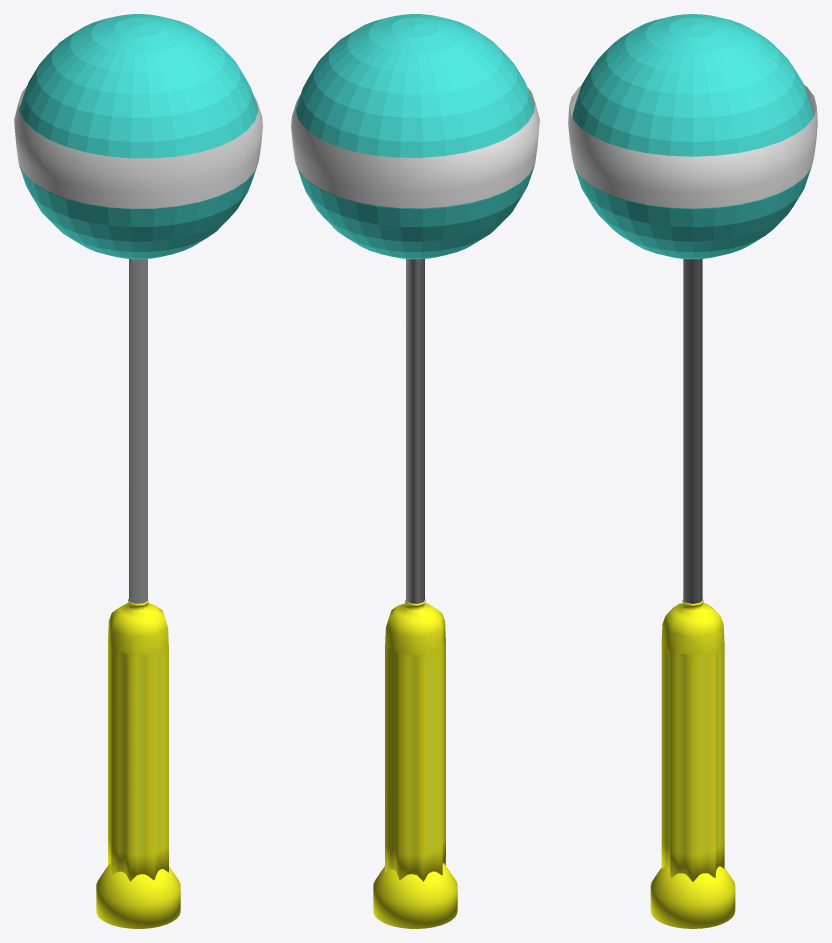
File: checkpoint.fbx
The picture shows the model from 3 angles, left to right: view 1: azimuth 30°, elevation 25°; view 2: azimuth 150°, elevation 25°; view 3: azimuth 270°, elevation 25°; orthographic projection.
Parts seen in each view (by area): view 1: turnSign.001; view 2: turnSign.001; view 3: turnSign.001.
Boxes of the visible parts, bbox=[...] form: turnSign.001: bbox=[14, 14, 262, 928]; turnSign.001: bbox=[291, 14, 539, 928]; turnSign.001: bbox=[568, 14, 817, 928].
Bounding box in the file's own units: 62.35 × 245 × 62.48.
